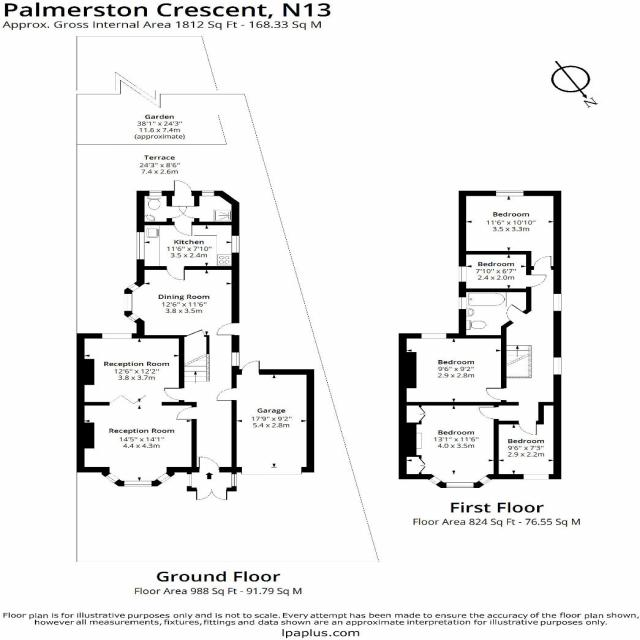DOOR: (506, 303, 527, 324), (198, 456, 221, 472), (216, 323, 240, 336), (477, 406, 499, 420), (485, 387, 507, 401), (163, 387, 185, 401), (175, 406, 197, 420), (518, 420, 537, 436), (173, 180, 192, 196), (173, 221, 193, 236), (533, 255, 552, 270), (166, 266, 185, 281), (526, 274, 547, 287), (216, 388, 237, 401)
ROOM: (76, 333, 197, 487), (399, 402, 499, 489), (124, 266, 240, 339), (458, 191, 562, 270), (398, 333, 507, 406), (136, 221, 240, 281), (493, 402, 562, 480), (458, 251, 547, 292)
WINDOW: (136, 231, 145, 260), (495, 190, 525, 197), (123, 480, 153, 487), (155, 472, 172, 484), (104, 472, 121, 484), (101, 333, 133, 339), (123, 293, 133, 312), (552, 357, 562, 375), (445, 482, 474, 488), (553, 293, 562, 312), (522, 474, 550, 480), (428, 475, 443, 486), (231, 235, 240, 253), (421, 333, 447, 339), (458, 266, 467, 282), (478, 475, 492, 485), (231, 352, 240, 366), (458, 297, 467, 310), (127, 283, 140, 292), (127, 313, 140, 322), (201, 190, 215, 196), (149, 190, 162, 196)
